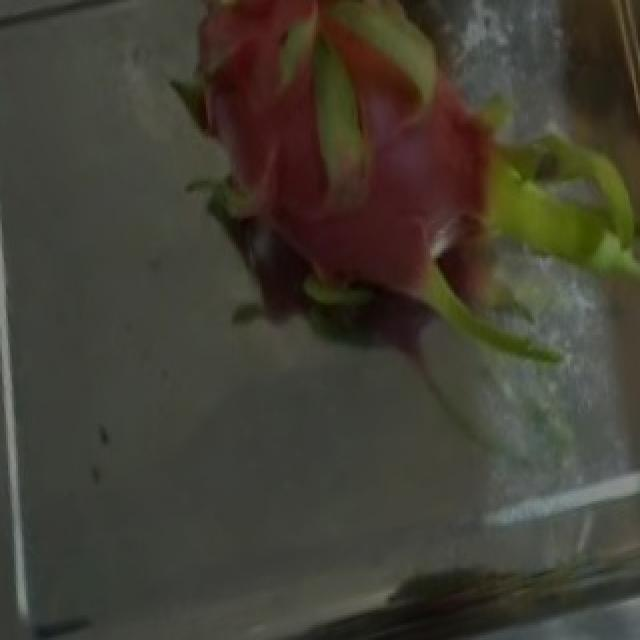fruit: (204, 2, 634, 446)
